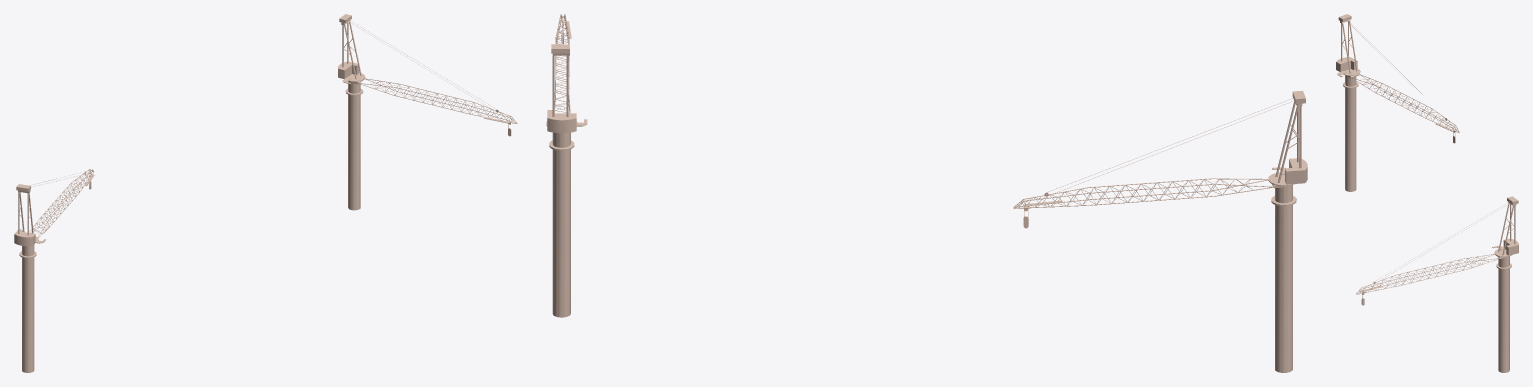
The model's file is 05-Crane.glb.
3 renders of one model, left to right at view 1: azimuth 30°, elevation 25°; view 2: azimuth 150°, elevation 25°; view 3: azimuth 270°, elevation 25°, orthographic. The views are drawn at different scales.
Parts seen in each view (by area): view 1: 3D Solid.116; view 2: 3D Solid.116; view 3: 3D Solid.116.
Part boxes in pixels (x1=…): 3D Solid.116: x1=14, y1=14, x2=517, y2=372; 3D Solid.116: x1=546, y1=14, x2=1307, y2=372; 3D Solid.116: x1=1336, y1=14, x2=1518, y2=372.
Bounding box in the file's own units: 160 × 56.75 × 55.42.
